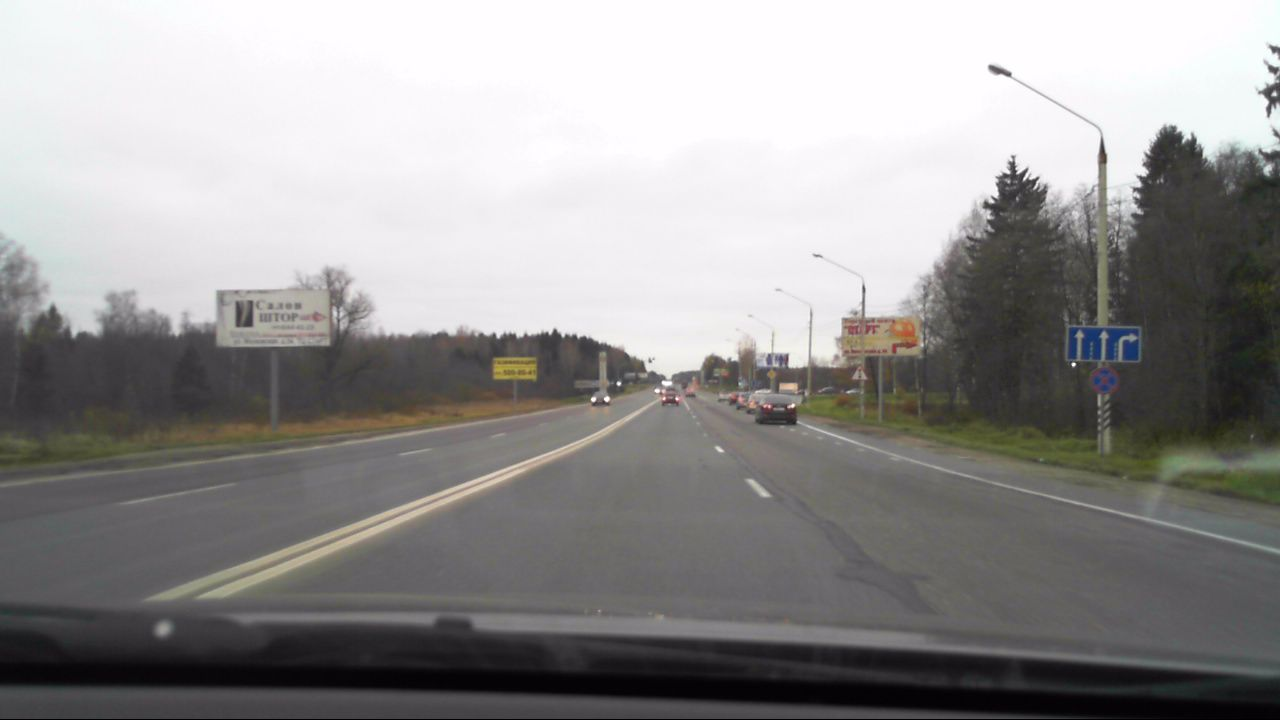No Parking: (1089, 368, 1117, 393)
